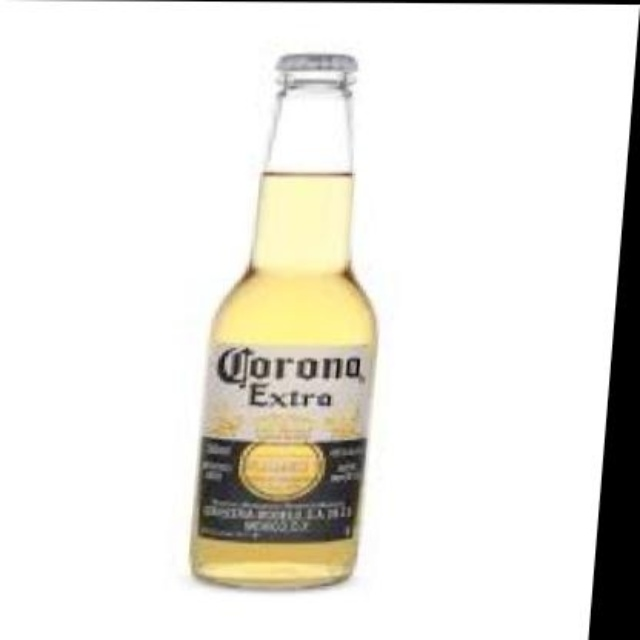trash: (191, 54, 375, 586)
